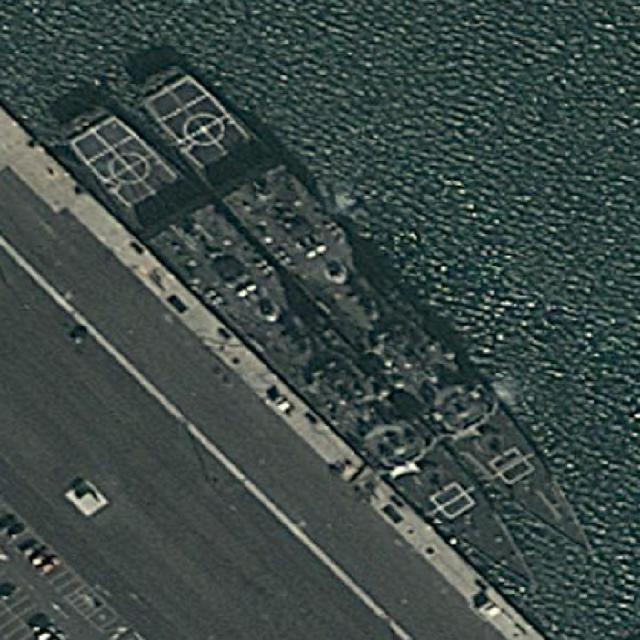Frigate: (52, 94, 562, 608), (129, 49, 618, 577)
